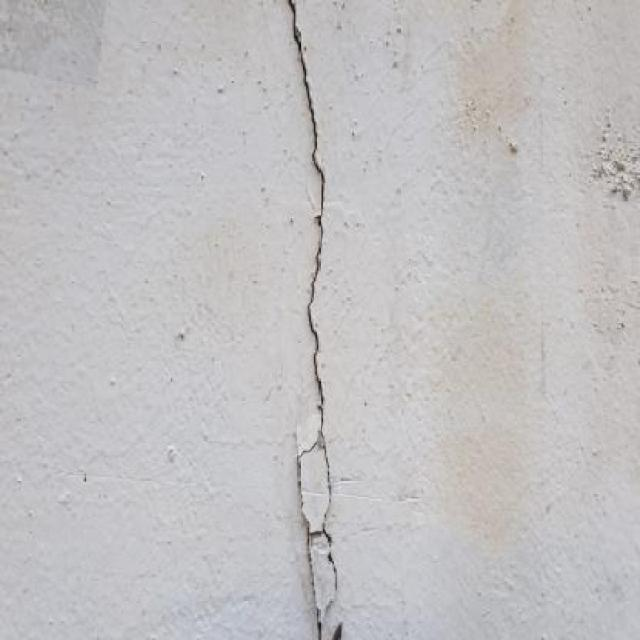multi-branched crack: (288, 1, 338, 635)
